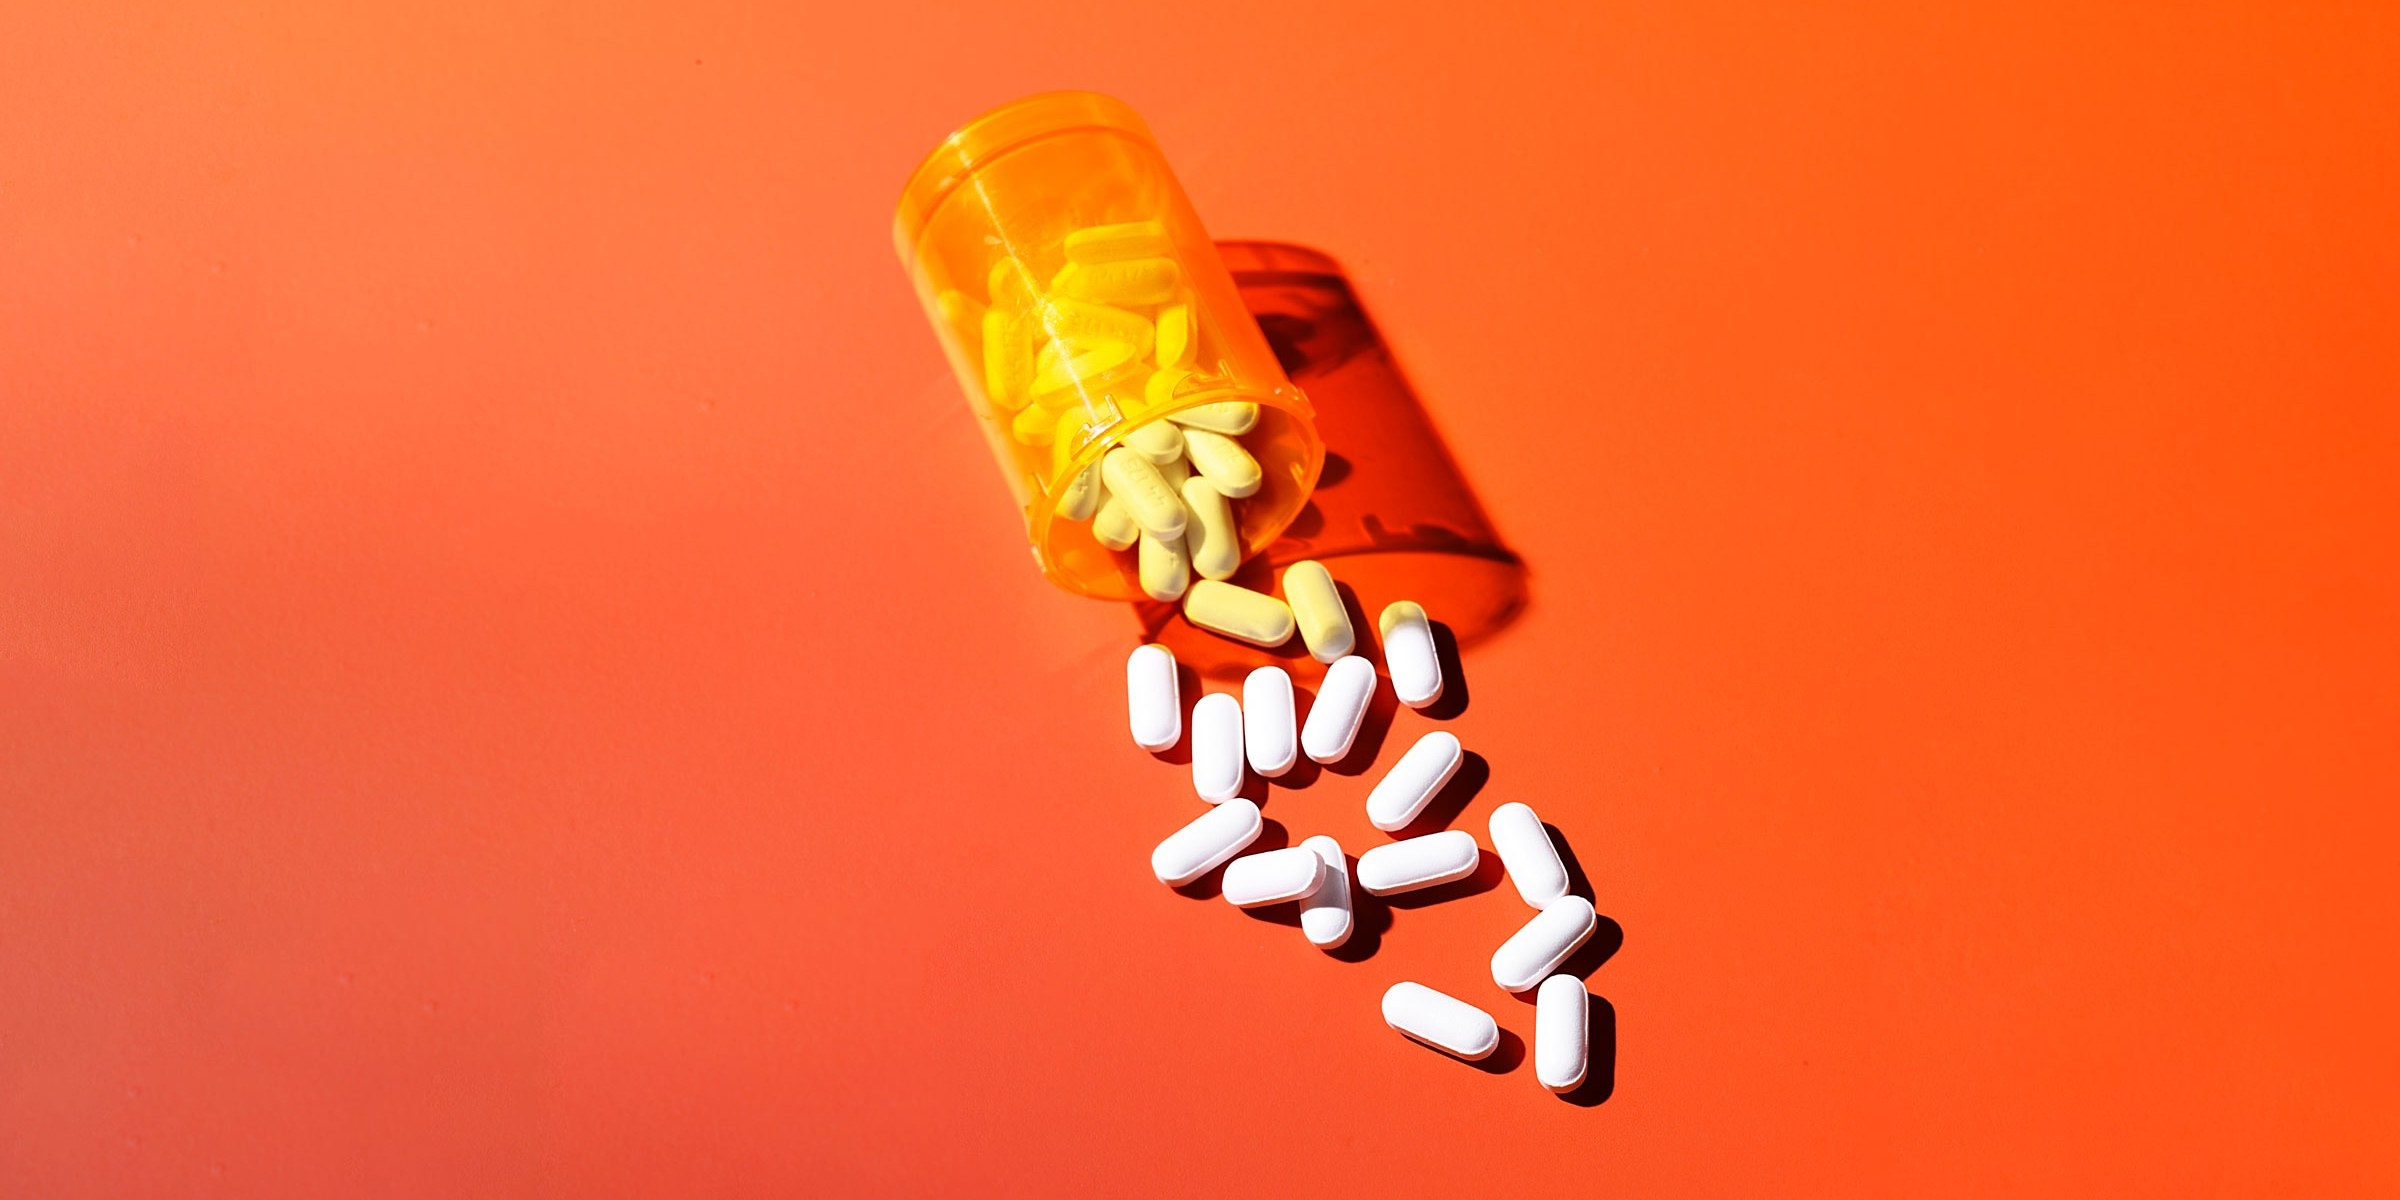pills: (1370, 958, 1514, 1087), (1345, 726, 1476, 845), (1524, 970, 1613, 1127), (1114, 628, 1194, 762), (1495, 773, 1567, 918), (1381, 568, 1436, 745), (1301, 666, 1396, 761), (1352, 834, 1483, 902), (1217, 842, 1316, 929), (1290, 537, 1338, 696), (1191, 689, 1243, 813)
